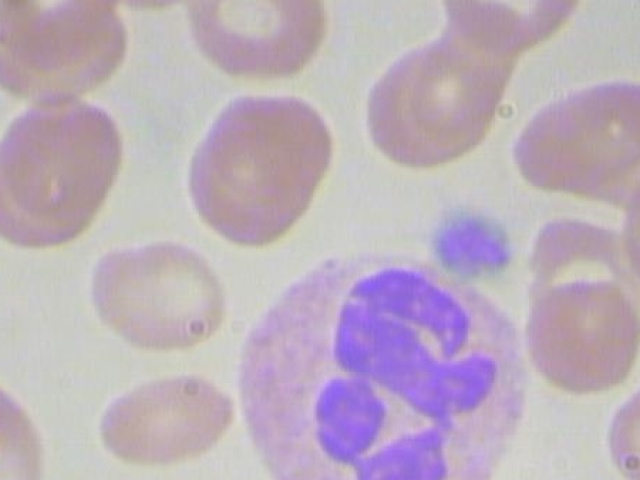Platelets: (421, 200, 521, 281)
RBC: (178, 87, 340, 244), (0, 91, 137, 248), (74, 238, 234, 359), (84, 351, 244, 472), (522, 273, 640, 397), (175, 0, 330, 89), (437, 0, 592, 51), (593, 372, 640, 480), (620, 159, 640, 305)
WBC: (222, 254, 558, 480)
